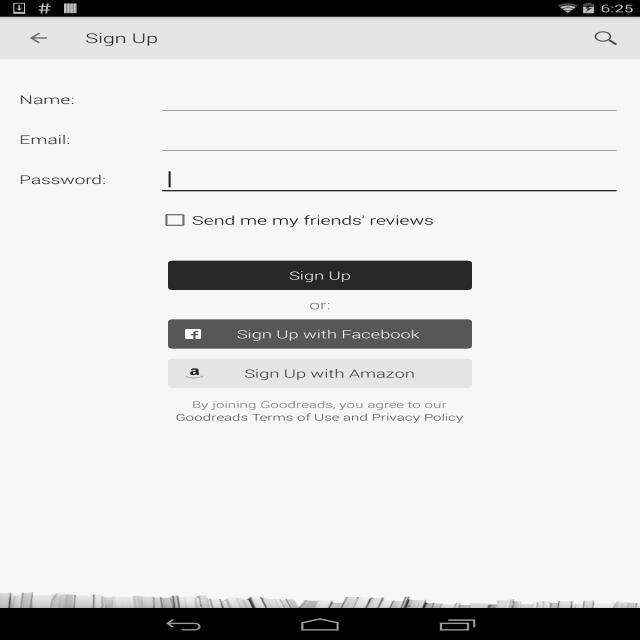Button: (168, 319, 472, 349), (168, 261, 472, 290), (168, 359, 472, 388)
CheckBox: (158, 209, 621, 231)
EditText: (158, 83, 621, 116), (158, 123, 621, 156), (158, 163, 621, 196)
ImageButton: (9, 17, 68, 59)
TextView: (19, 83, 158, 116), (19, 123, 158, 156), (19, 163, 158, 196), (175, 411, 464, 423), (192, 398, 447, 411), (580, 22, 632, 54), (85, 29, 158, 47), (309, 290, 331, 319)
